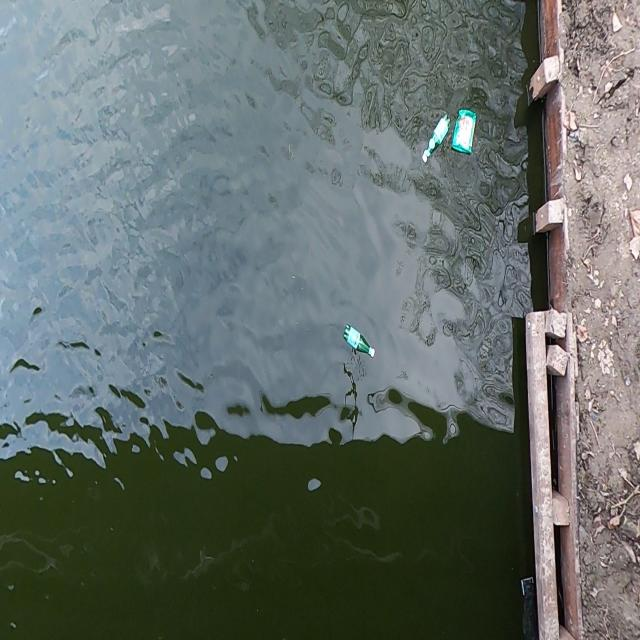Autre plastique: (451, 105, 478, 158)
Bouteille plastique: (419, 111, 453, 167), (340, 320, 379, 366)
